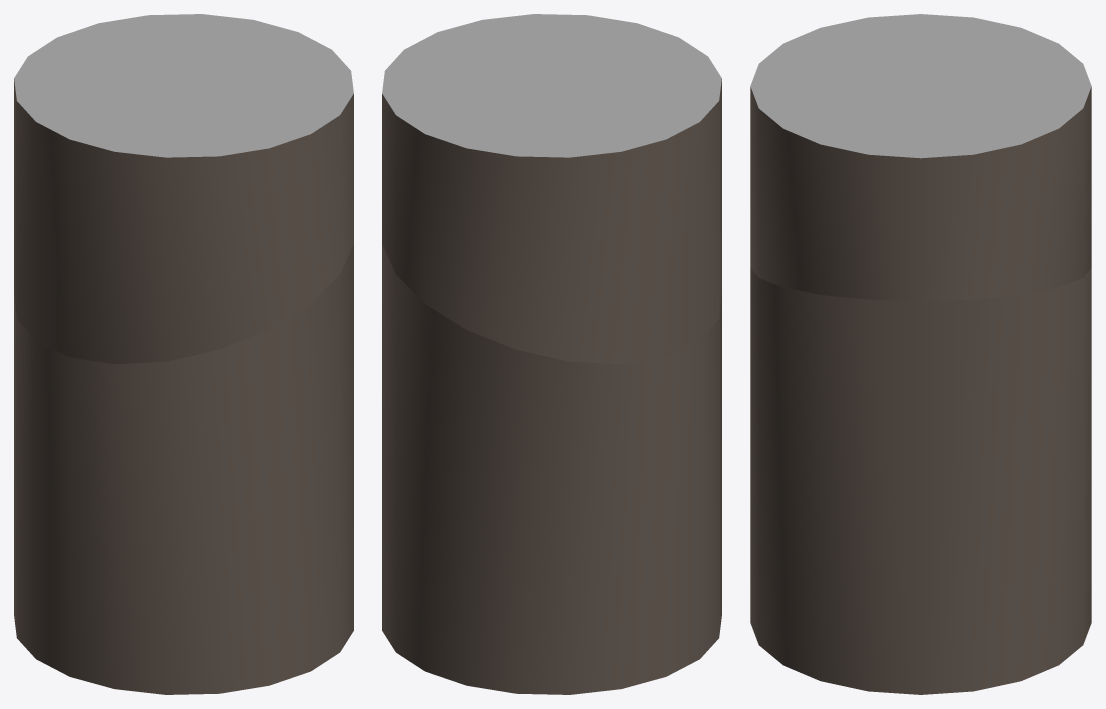
Rendered from Wood_slice_alha.fbx.
3 views of the same model, side by side, from view 1: azimuth 30°, elevation 25°; view 2: azimuth 150°, elevation 25°; view 3: azimuth 270°, elevation 25° (orthographic).
Visible parts, largest first — view 1: Bottom, Top; view 2: Bottom, Top; view 3: Bottom, Top.
Part boxes in pixels (bbox=[...]): Bottom: bbox=[14, 244, 353, 694]; Top: bbox=[14, 14, 353, 364]; Bottom: bbox=[382, 244, 721, 694]; Top: bbox=[382, 14, 721, 364]; Bottom: bbox=[750, 268, 1091, 694]; Top: bbox=[750, 14, 1091, 301].
Size of the model in its own units: 86.46 by 150 by 86.46.
